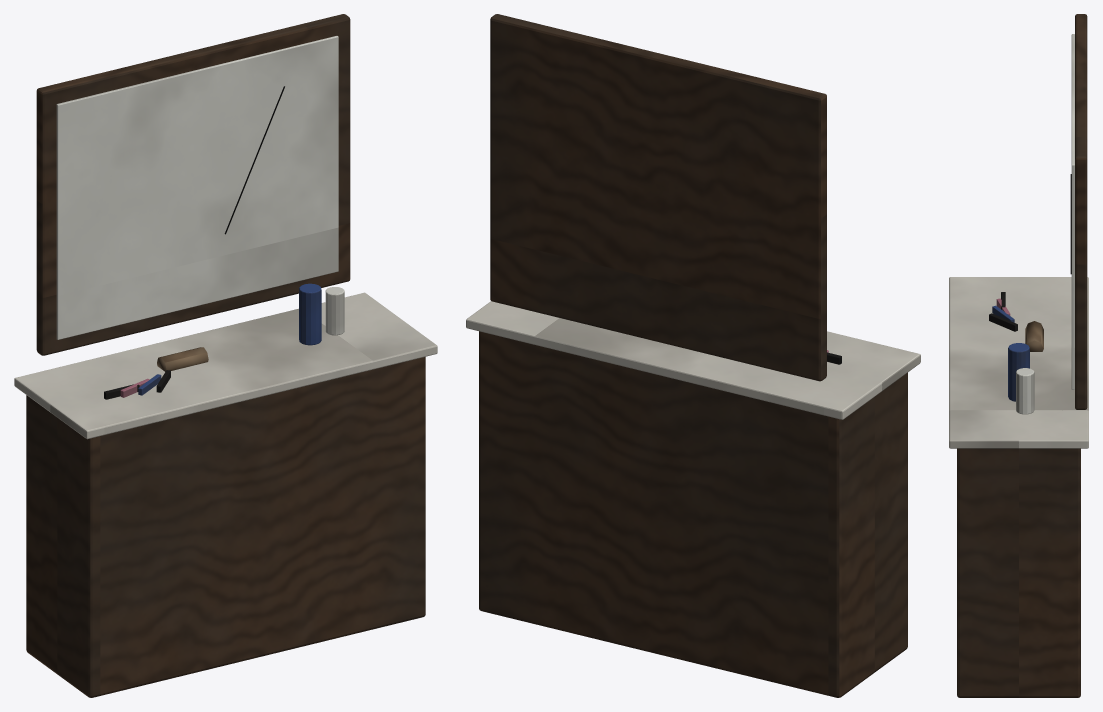
File: W06_barber_mirror_station.glb
3 renders of one model, left to right at view 1: azimuth 30°, elevation 25°; view 2: azimuth 150°, elevation 25°; view 3: azimuth 270°, elevation 25°, orthographic. The views are drawn at different scales.
Visible parts, largest first — view 1: W06_barber_mirror_station; view 2: W06_barber_mirror_station; view 3: W06_barber_mirror_station.
Boxes of the visible parts, <box> form: W06_barber_mirror_station: <box>14,14,437,697</box>; W06_barber_mirror_station: <box>466,14,920,697</box>; W06_barber_mirror_station: <box>949,14,1088,697</box>.
Bounding box in the file's own units: 1.18 × 1.8 × 0.4263.
Materials: 8 (8 with a texture image).
